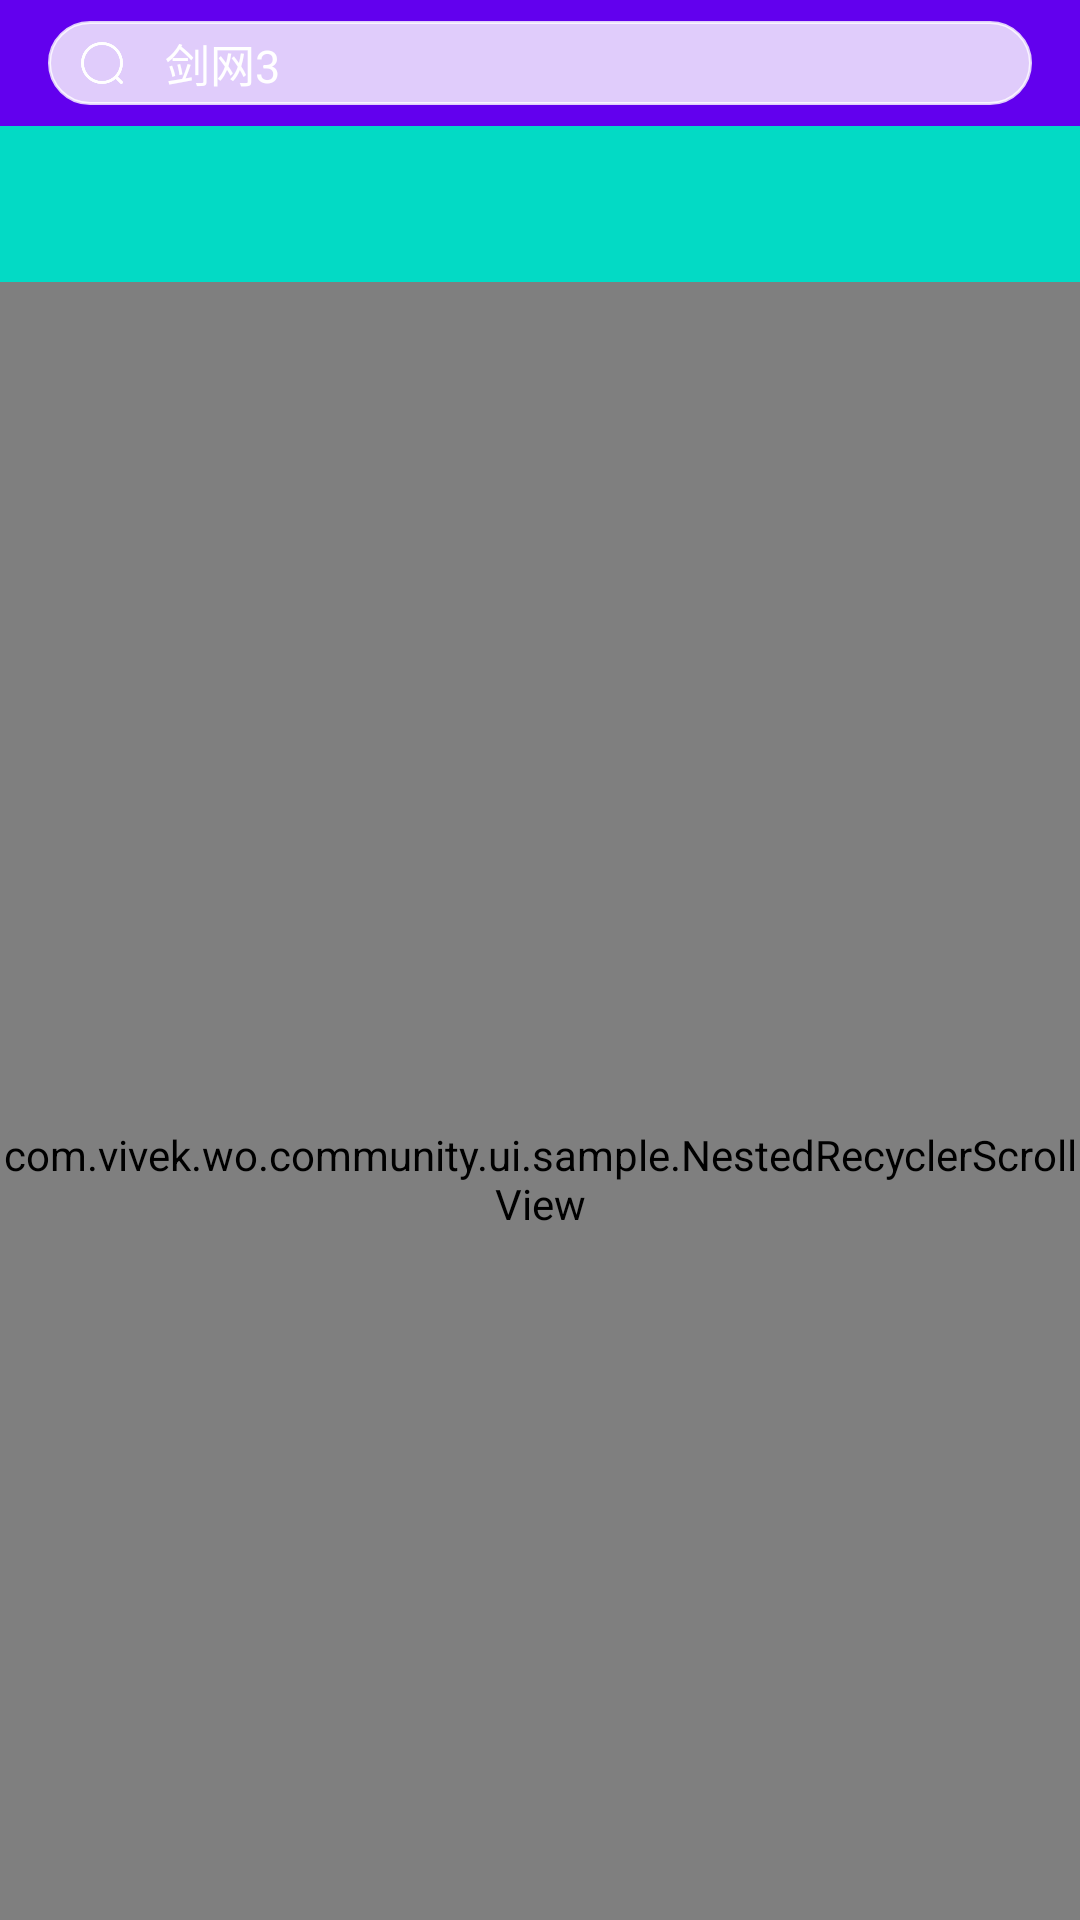

Screen size 1080x1920. Icon name, then its center in pixels as point (x, y):
search: point (102, 63)
